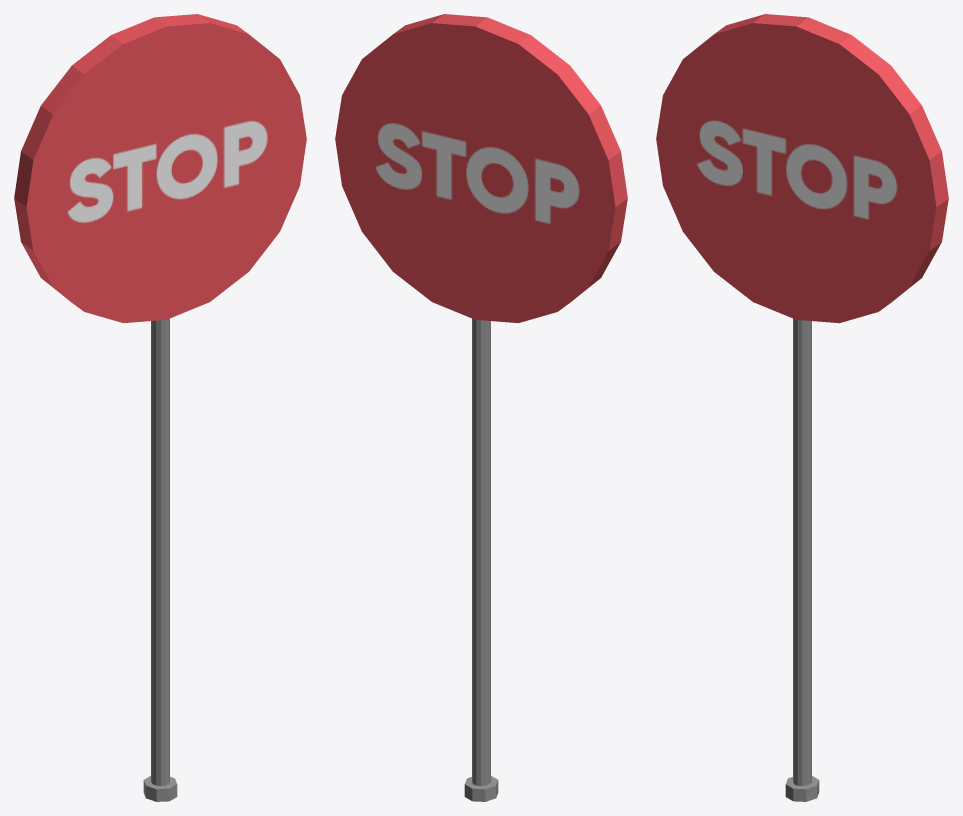
The model's file is D1_TRAFFIC_SIGN_1.fbx.
3 renders of one model, left to right at view 1: azimuth 30°, elevation 25°; view 2: azimuth 150°, elevation 25°; view 3: azimuth 330°, elevation 25°, orthographic.
Parts seen in each view (by area): view 1: D1_SIGNAGE_STOP; view 2: D1_SIGNAGE_STOP; view 3: D1_SIGNAGE_STOP.
Boxes of the visible parts, bbox=[...] form: D1_SIGNAGE_STOP: bbox=[14, 14, 306, 801]; D1_SIGNAGE_STOP: bbox=[335, 14, 627, 801]; D1_SIGNAGE_STOP: bbox=[656, 14, 948, 801].
Bounding box in the file's own units: 106 × 279 × 11.91.
Materials: 2 (1 with a texture image).
